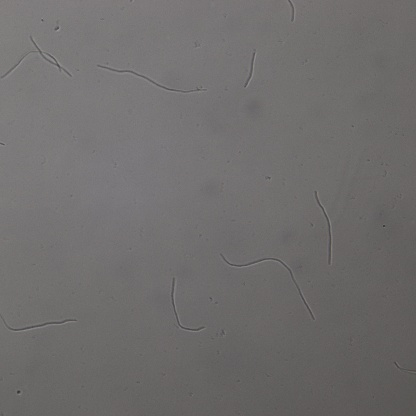Sensitive: (220, 253, 316, 320), (98, 64, 207, 97), (1, 35, 73, 80), (169, 277, 205, 333), (1, 310, 77, 332), (312, 190, 333, 266), (242, 49, 258, 88)
